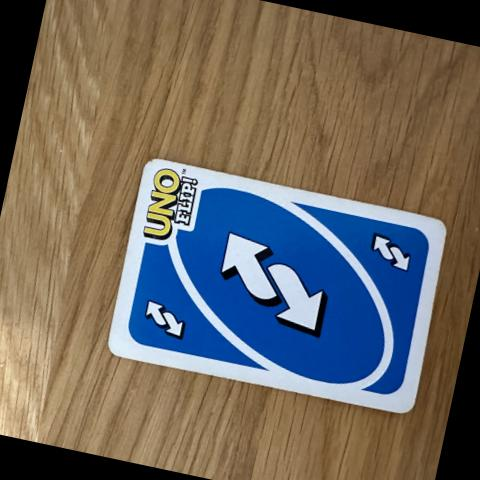lbluerevers-20: (115, 278, 218, 363)
